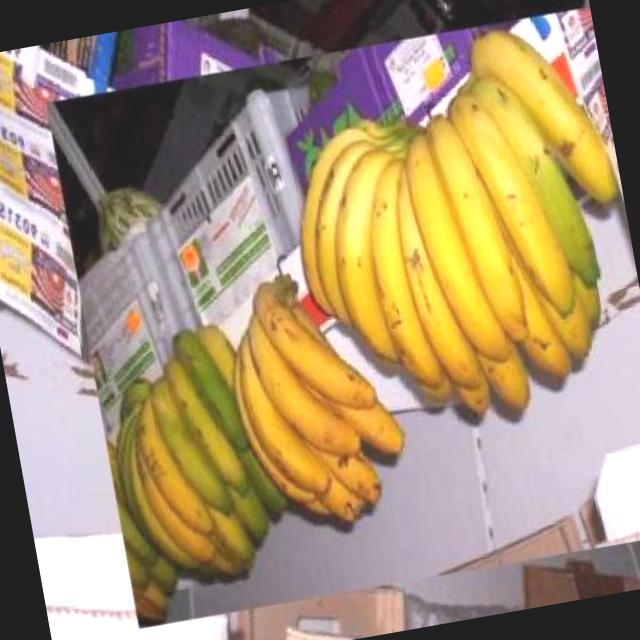Banana: (262, 5, 640, 458), (212, 256, 420, 538), (89, 314, 294, 598)
